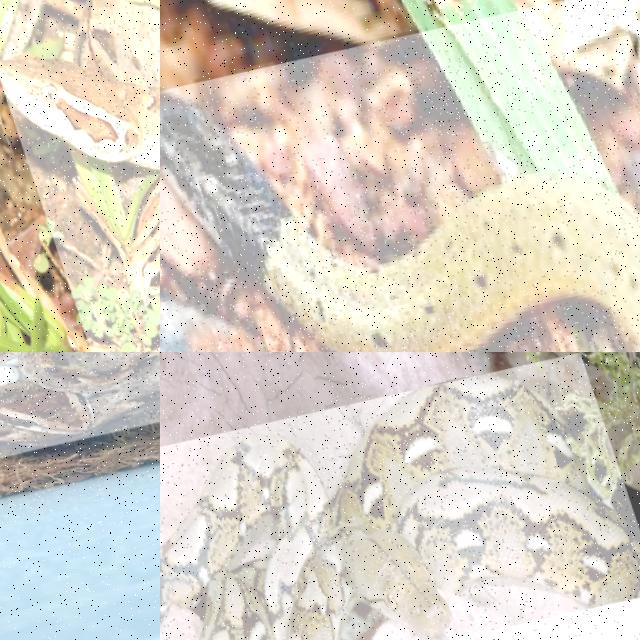Calliophis maculiceps: (160, 91, 639, 351)
Calloselasma rhodostoma: (0, 0, 159, 170), (0, 352, 159, 451)
Malayopython reticulatus: (160, 379, 639, 639)
snake: (160, 91, 639, 351), (160, 379, 639, 639), (0, 0, 159, 170), (0, 352, 159, 451)
